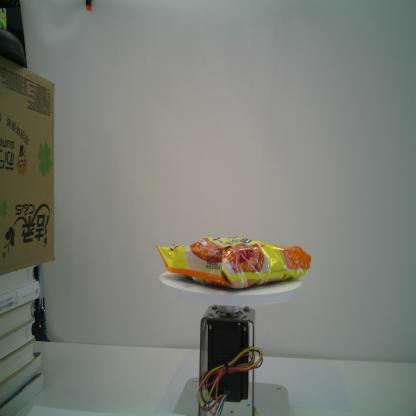Instant Noodles: (154, 234, 312, 292)
